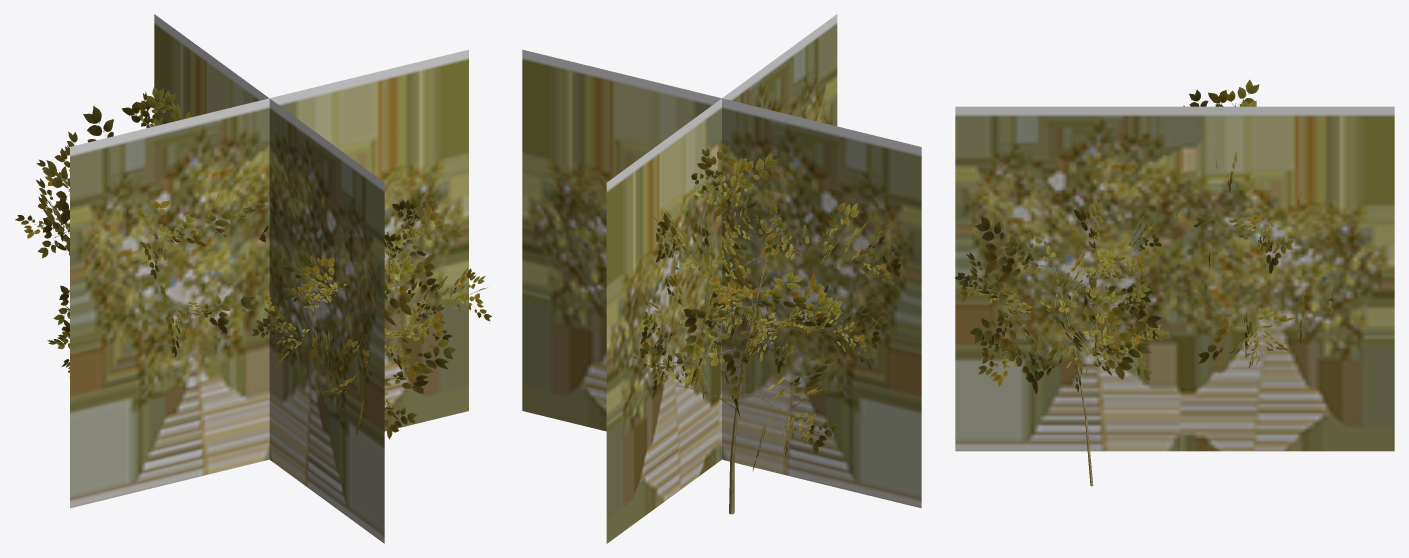
File: Shrub1-4B.fbx
The picture shows the model from 3 angles, left to right: view 1: azimuth 30°, elevation 25°; view 2: azimuth 150°, elevation 25°; view 3: azimuth 270°, elevation 25°; orthographic projection. The views are drawn at different scales.
Visible parts, largest first — view 1: Billboard-Shrub1-4B, Shrub1-4B_LOD0; view 2: Billboard-Shrub1-4B, Shrub1-4B_LOD0; view 3: Billboard-Shrub1-4B, Shrub1-4B_LOD0.
Part boxes in pixels (bbox=[...]): Billboard-Shrub1-4B: bbox=[70, 14, 468, 543]; Shrub1-4B_LOD0: bbox=[15, 86, 491, 439]; Billboard-Shrub1-4B: bbox=[522, 14, 921, 543]; Shrub1-4B_LOD0: bbox=[632, 143, 907, 514]; Billboard-Shrub1-4B: bbox=[955, 106, 1394, 451]; Shrub1-4B_LOD0: bbox=[955, 80, 1333, 486].
Size of what is drawn, in the model's own units: 414 by 373 by 411.
